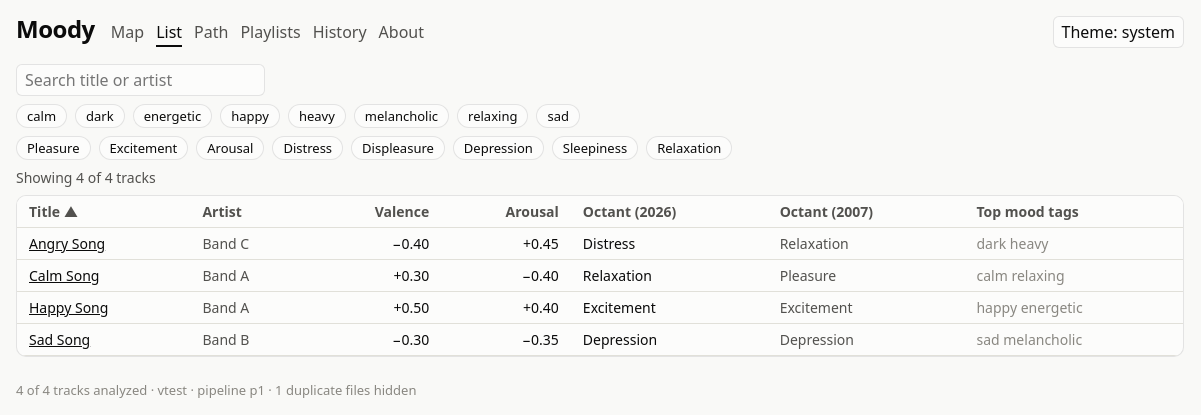
Scenario: filters are shared with the map controls
Click the button "sad". click: click(558, 116)
box: x1=536 y1=104 x2=580 y2=128
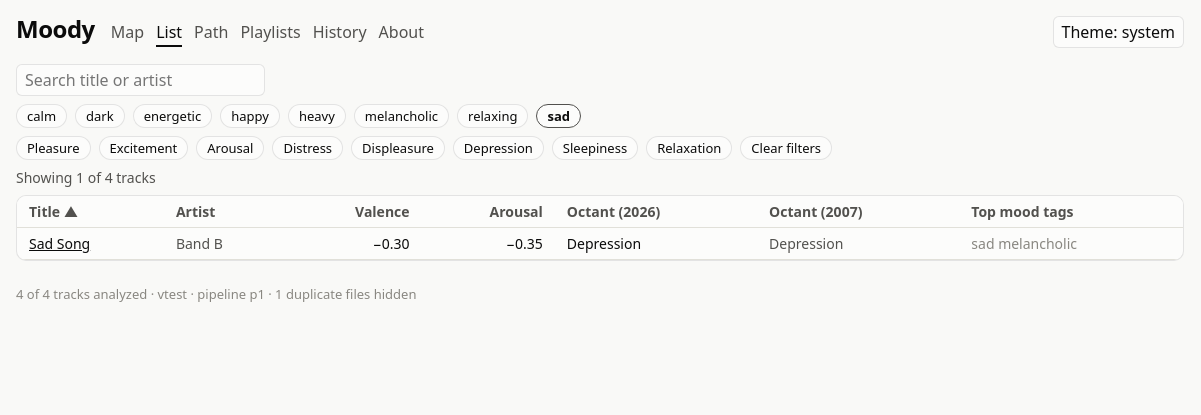
Check: the text "Showing 1 of 4 tracks" is shown, box x1=16 y1=168 x2=156 y2=187
